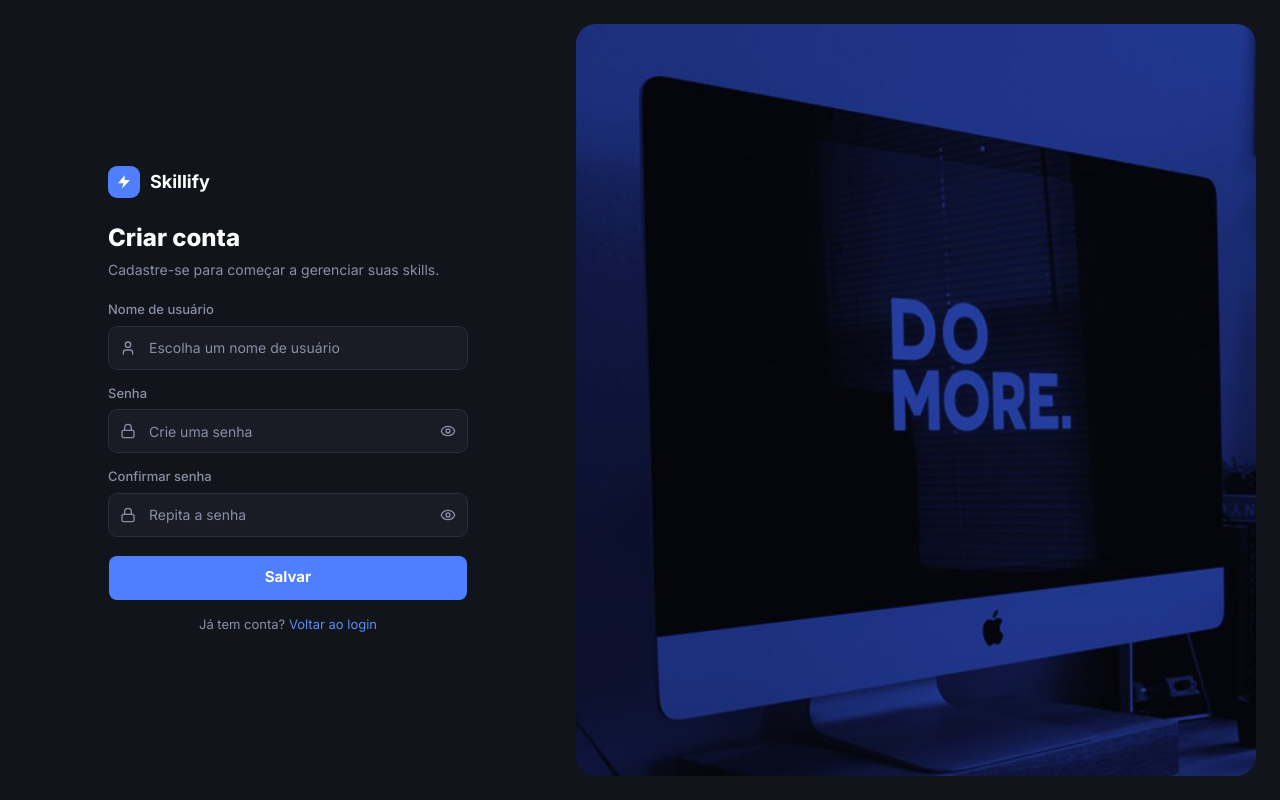
Scenario: Autenticação › valida senhas divergentes no cadastro
The image size is (1280, 800).
Type "novousuario" into the field with id "usuario". click: (288, 348)
box: [108,326,468,370]
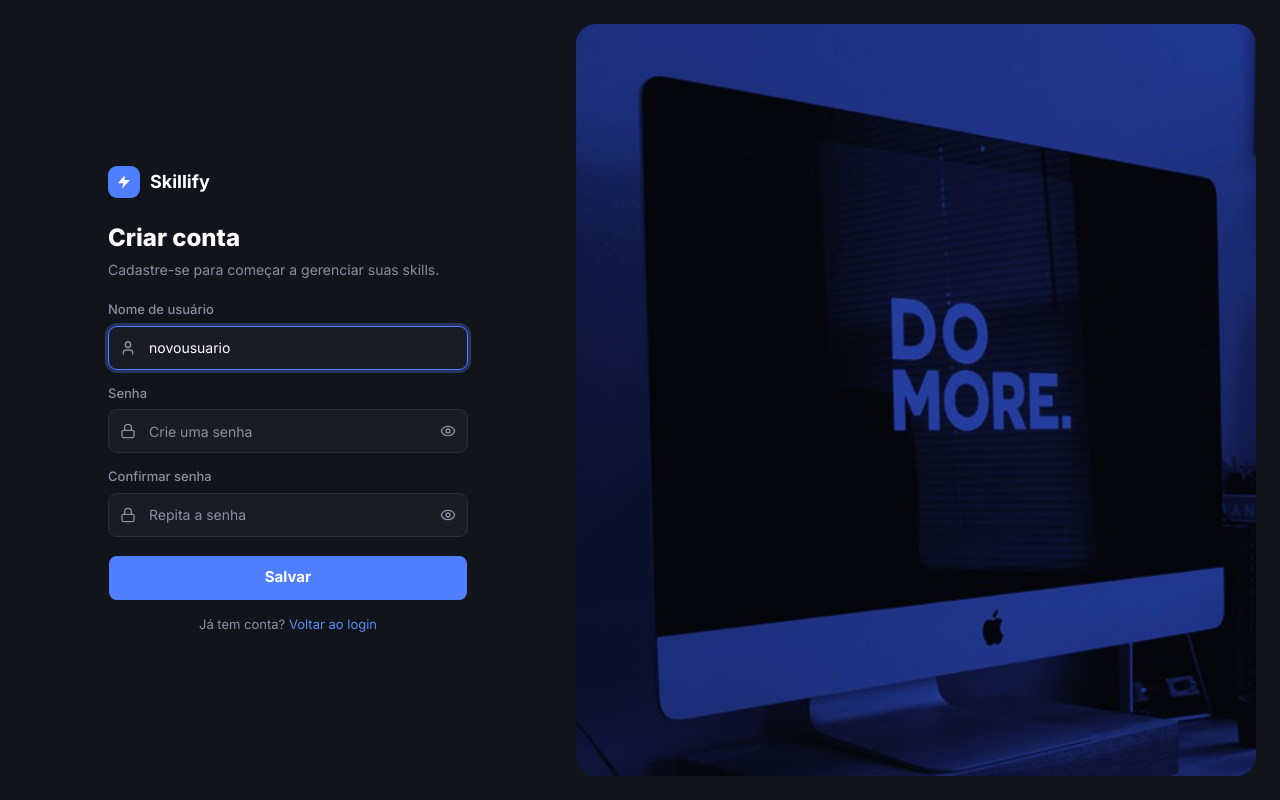
Type "senha123" into the password field with id "senha". click: (288, 431)
box: [108,409,468,453]
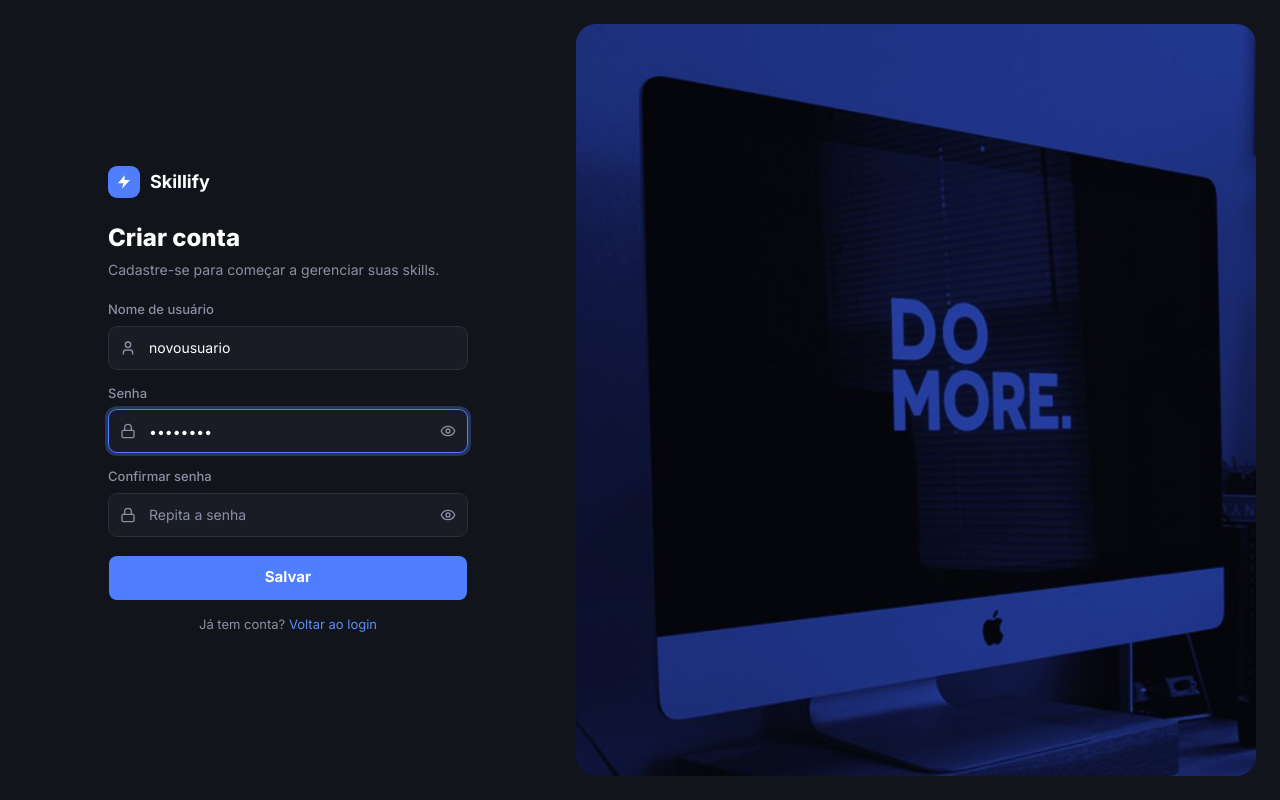
Type "outrasenha" into the password field with id "confirmarSenha". click: (288, 515)
box: [108,493,468,537]
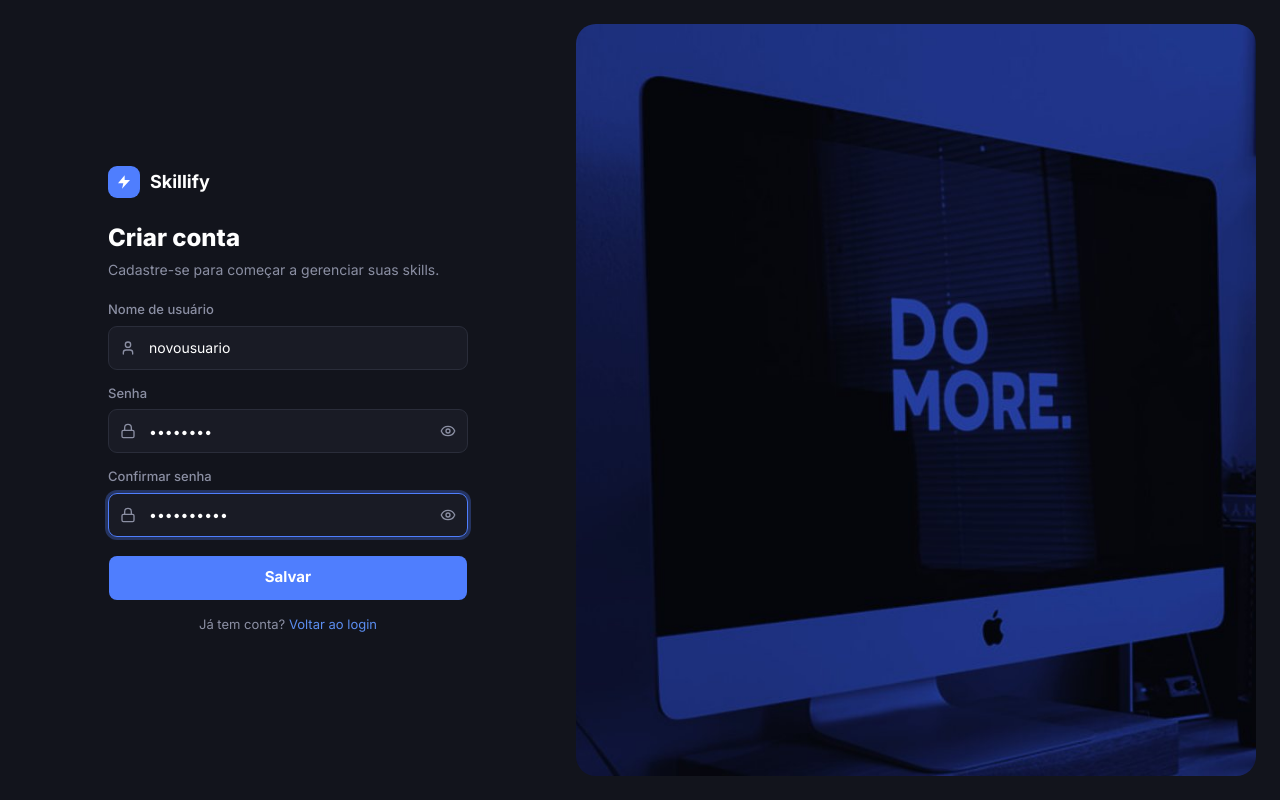
Leave the password field with id "confirmarSenha", box [108,493,468,537]
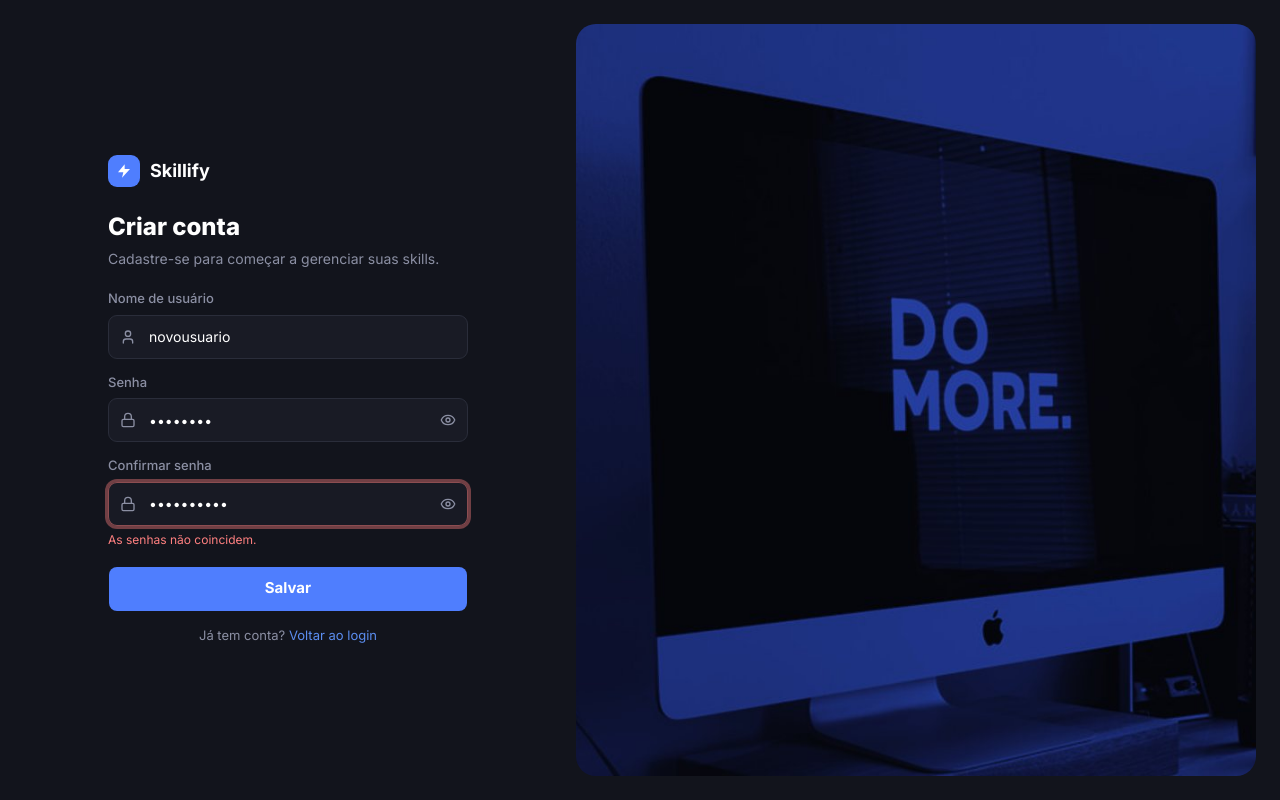
Result: the text "As senhas não coincidem." is shown at [108,532,256,546]
